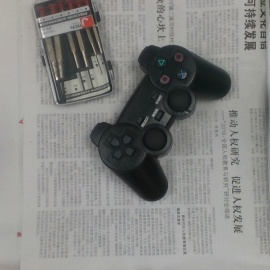remote: (91, 42, 231, 200)
